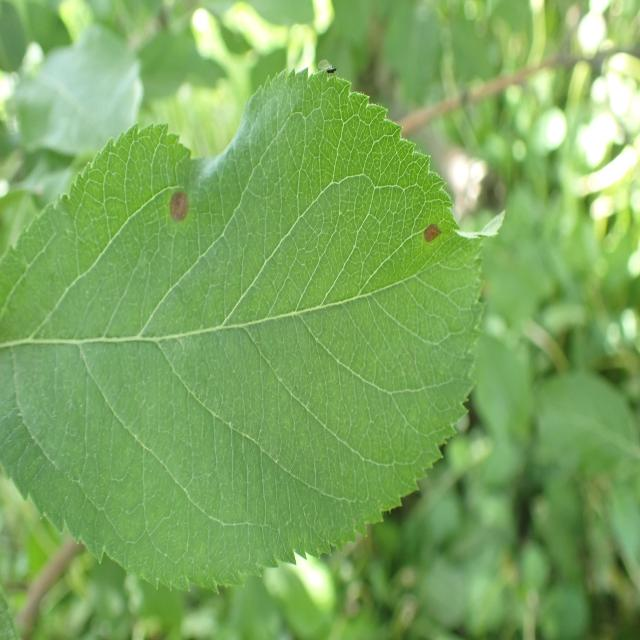frog-eye-leaf-spot: (0, 61, 504, 594)
